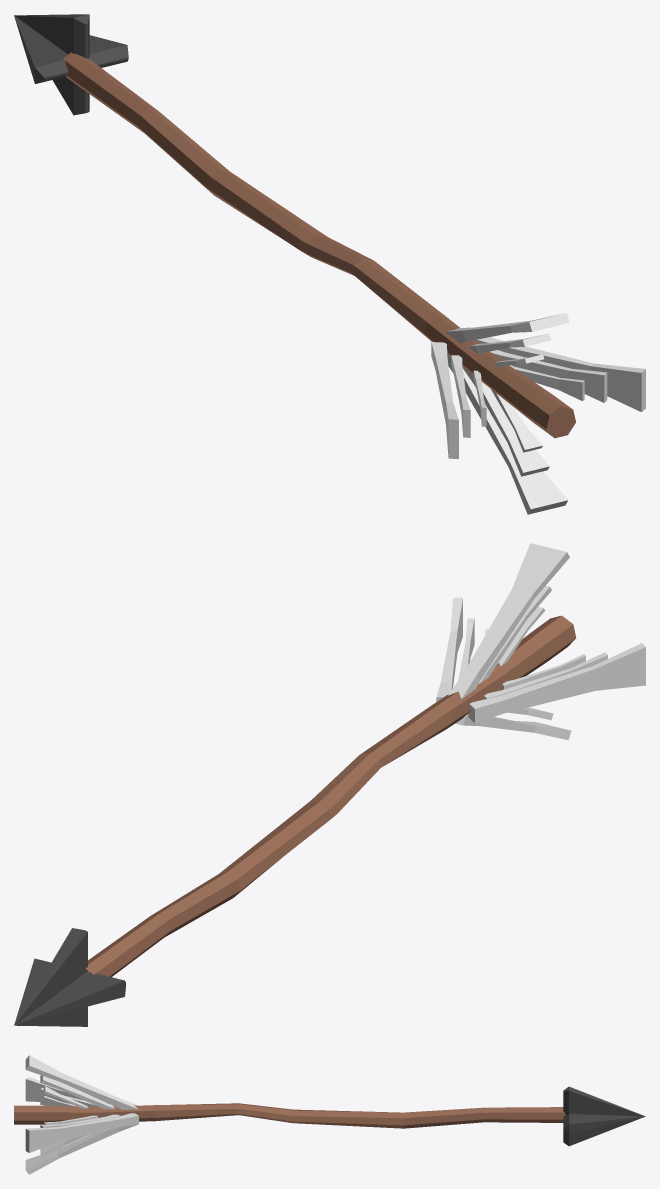
The model's file is Arrow.fbx.
3 renders of one model, top to bottom at view 1: azimuth 30°, elevation 25°; view 2: azimuth 150°, elevation 25°; view 3: azimuth 270°, elevation 25°, orthographic. The views are drawn at different scales.
Parts seen in each view (by area): view 1: Arrow; view 2: Arrow; view 3: Arrow.
Boxes of the visible parts, x1,y1,x2,y2 form: Arrow: [14, 14, 645, 514]; Arrow: [14, 543, 645, 1026]; Arrow: [14, 1055, 645, 1174].
Size of the model in its own units: 4.71 by 4.39 by 22.9.
